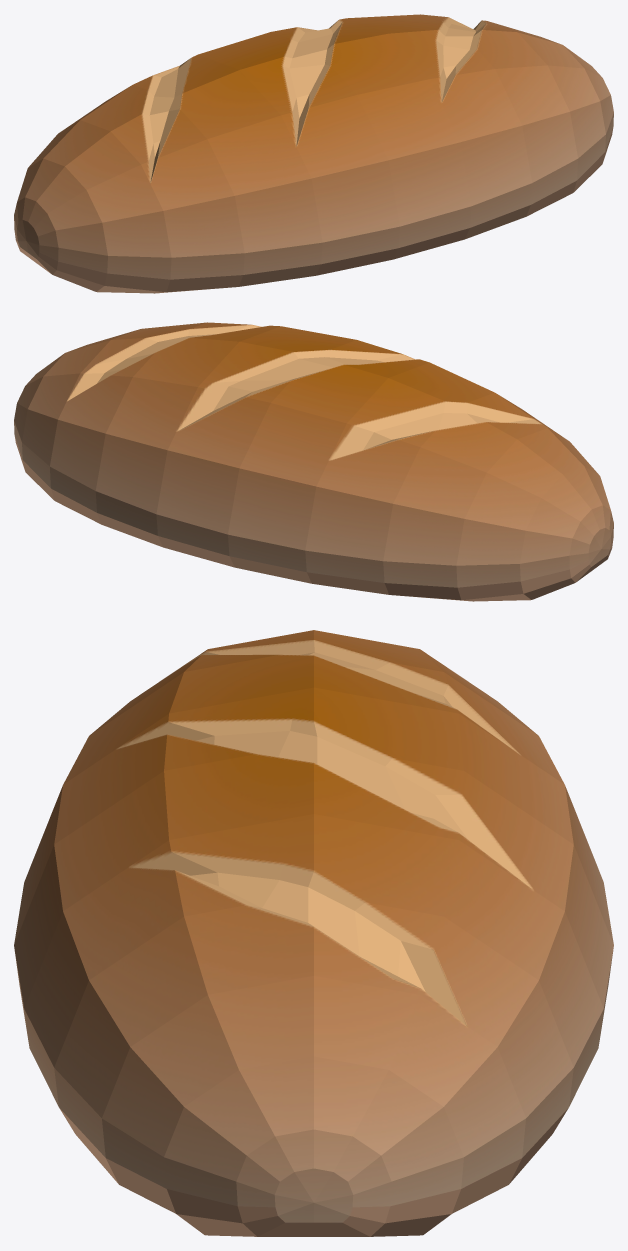
The model's file is baton.fbx.
3 renders of one model, top to bottom at view 1: azimuth 30°, elevation 25°; view 2: azimuth 150°, elevation 25°; view 3: azimuth 270°, elevation 25°, orthographic. The views are drawn at different scales.
Parts seen in each view (by area): view 1: baton; view 2: baton; view 3: baton.
Part boxes in pixels (bbox=[...]): baton: bbox=[14, 14, 613, 293]; baton: bbox=[14, 322, 613, 601]; baton: bbox=[14, 630, 613, 1236].
Size of the model in its own units: 102 by 27.51 by 52.81.
Materials: 1 (1 with a texture image).
